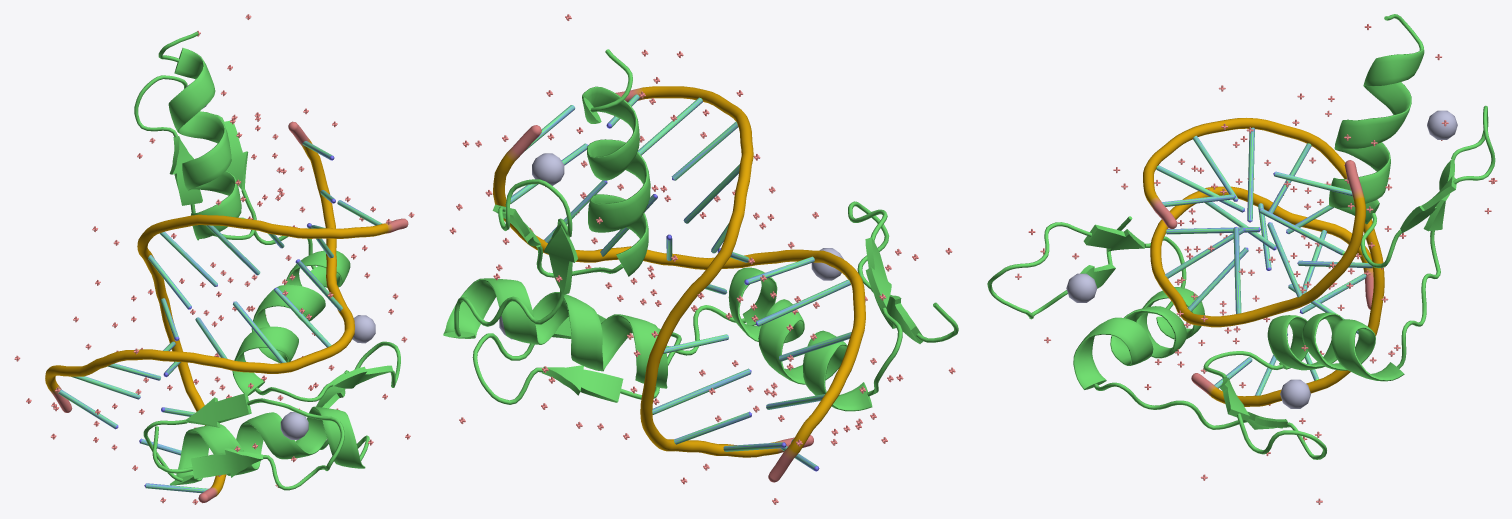
Rendered from 1zaa.gltf.
The picture shows the model from 3 angles, left to right: view 1: azimuth 30°, elevation 25°; view 2: azimuth 150°, elevation 25°; view 3: azimuth 270°, elevation 25°; orthographic projection. The views are drawn at different scales.
Visible parts, largest first — view 1: node-geom3, node-geom0, node-geom1; view 2: node-geom3, node-geom2, node-geom18, node-geom11; view 3: node-geom3, node-geom1, node-geom0, node-geom2, node-geom22.
Boxes of the visible parts, left/top/right/bottom form: node-geom3: left=45, top=31, right=408, bottom=503; node-geom0: left=280, top=412, right=308, bottom=439; node-geom1: left=352, top=315, right=375, bottom=343; node-geom3: left=443, top=49, right=958, bottom=482; node-geom2: left=532, top=153, right=564, bottom=185; node-geom18: left=652, top=368, right=751, bottom=414; node-geom11: left=755, top=279, right=850, bottom=326; node-geom3: left=987, top=14, right=1495, bottom=459; node-geom1: left=1280, top=379, right=1310, bottom=408; node-geom0: left=1066, top=273, right=1097, bottom=302; node-geom2: left=1427, top=110, right=1457, bottom=139; node-geom22: left=1247, top=127, right=1254, bottom=222.
Bounding box in the file's own units: 43.32 × 44.46 × 45.64.
